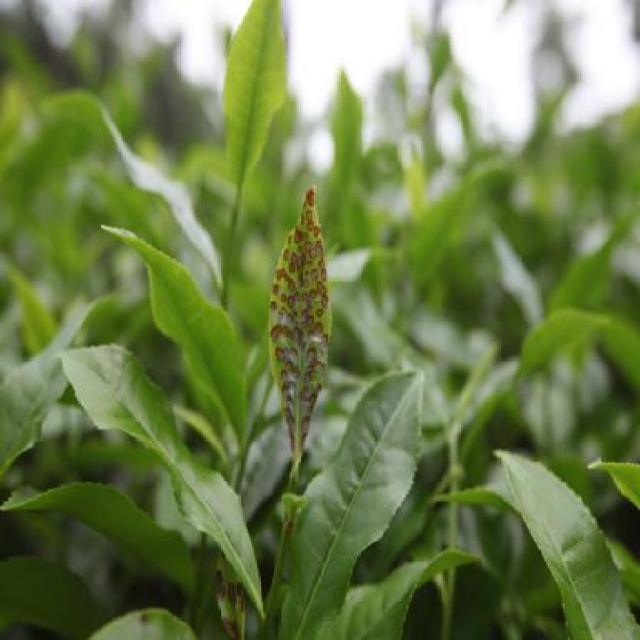Tea Mosquito bug infested leaf: (270, 180, 332, 475)
